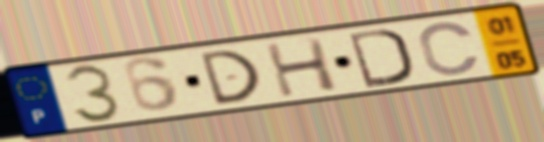3: (61, 62, 124, 126)
6: (124, 54, 183, 120)
C: (416, 19, 483, 78)
D: (344, 26, 414, 90), (196, 47, 264, 108)
H: (261, 35, 341, 100)
